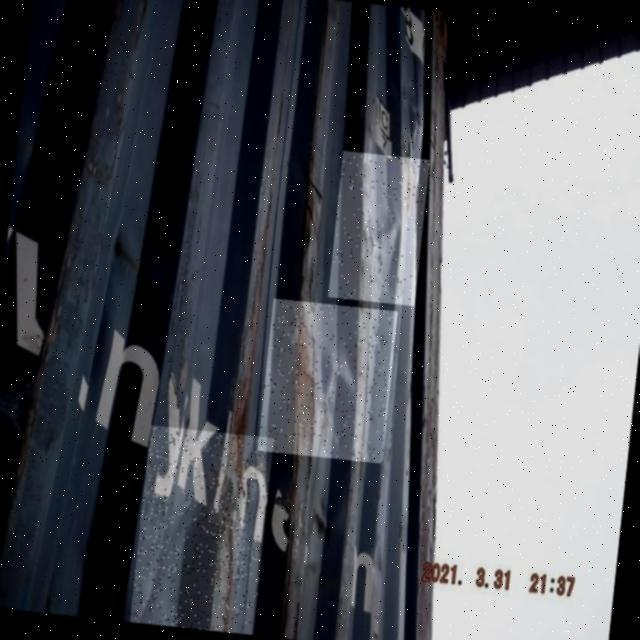Minor-Dent: (130, 425, 274, 635), (257, 298, 397, 463), (328, 151, 430, 306)
